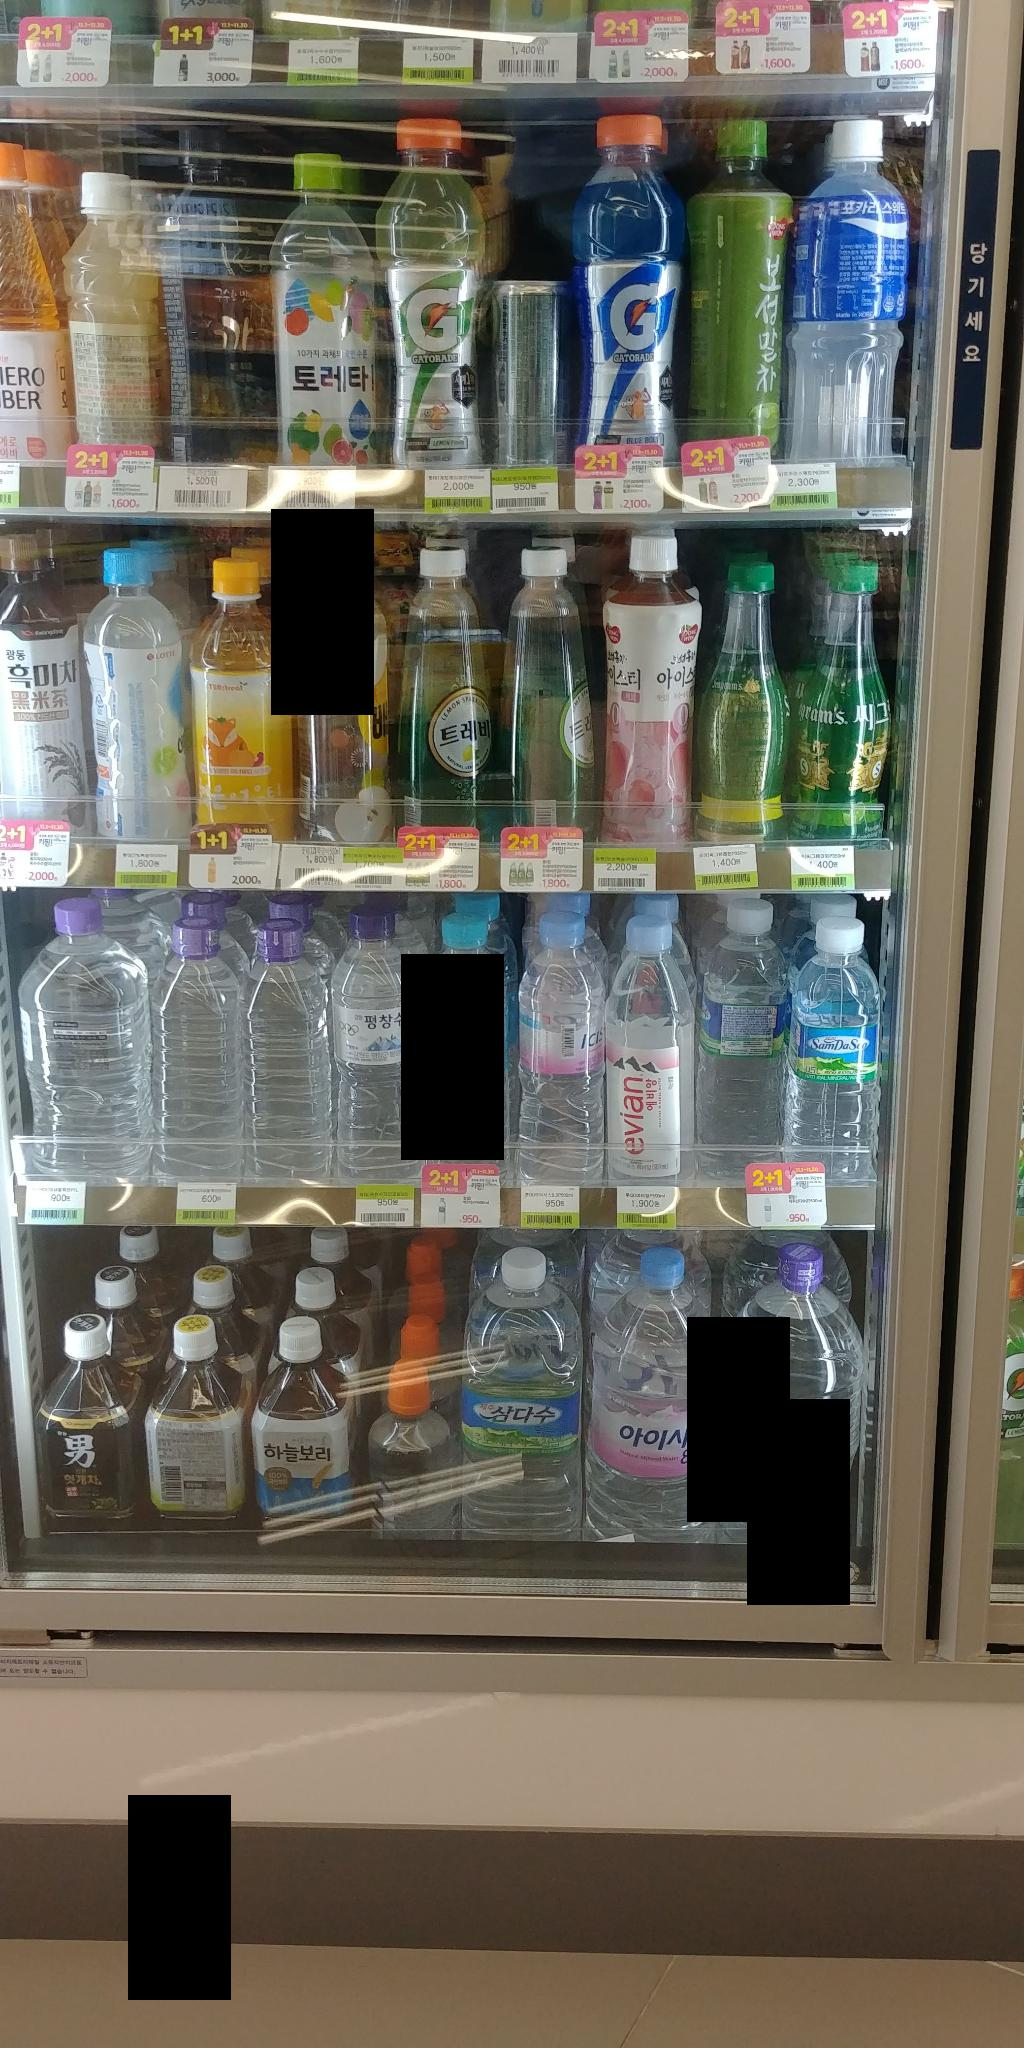gatorade_lemon: (383, 107, 491, 469)
pocarisweat: (795, 114, 904, 457)
toreta: (259, 138, 383, 479)
